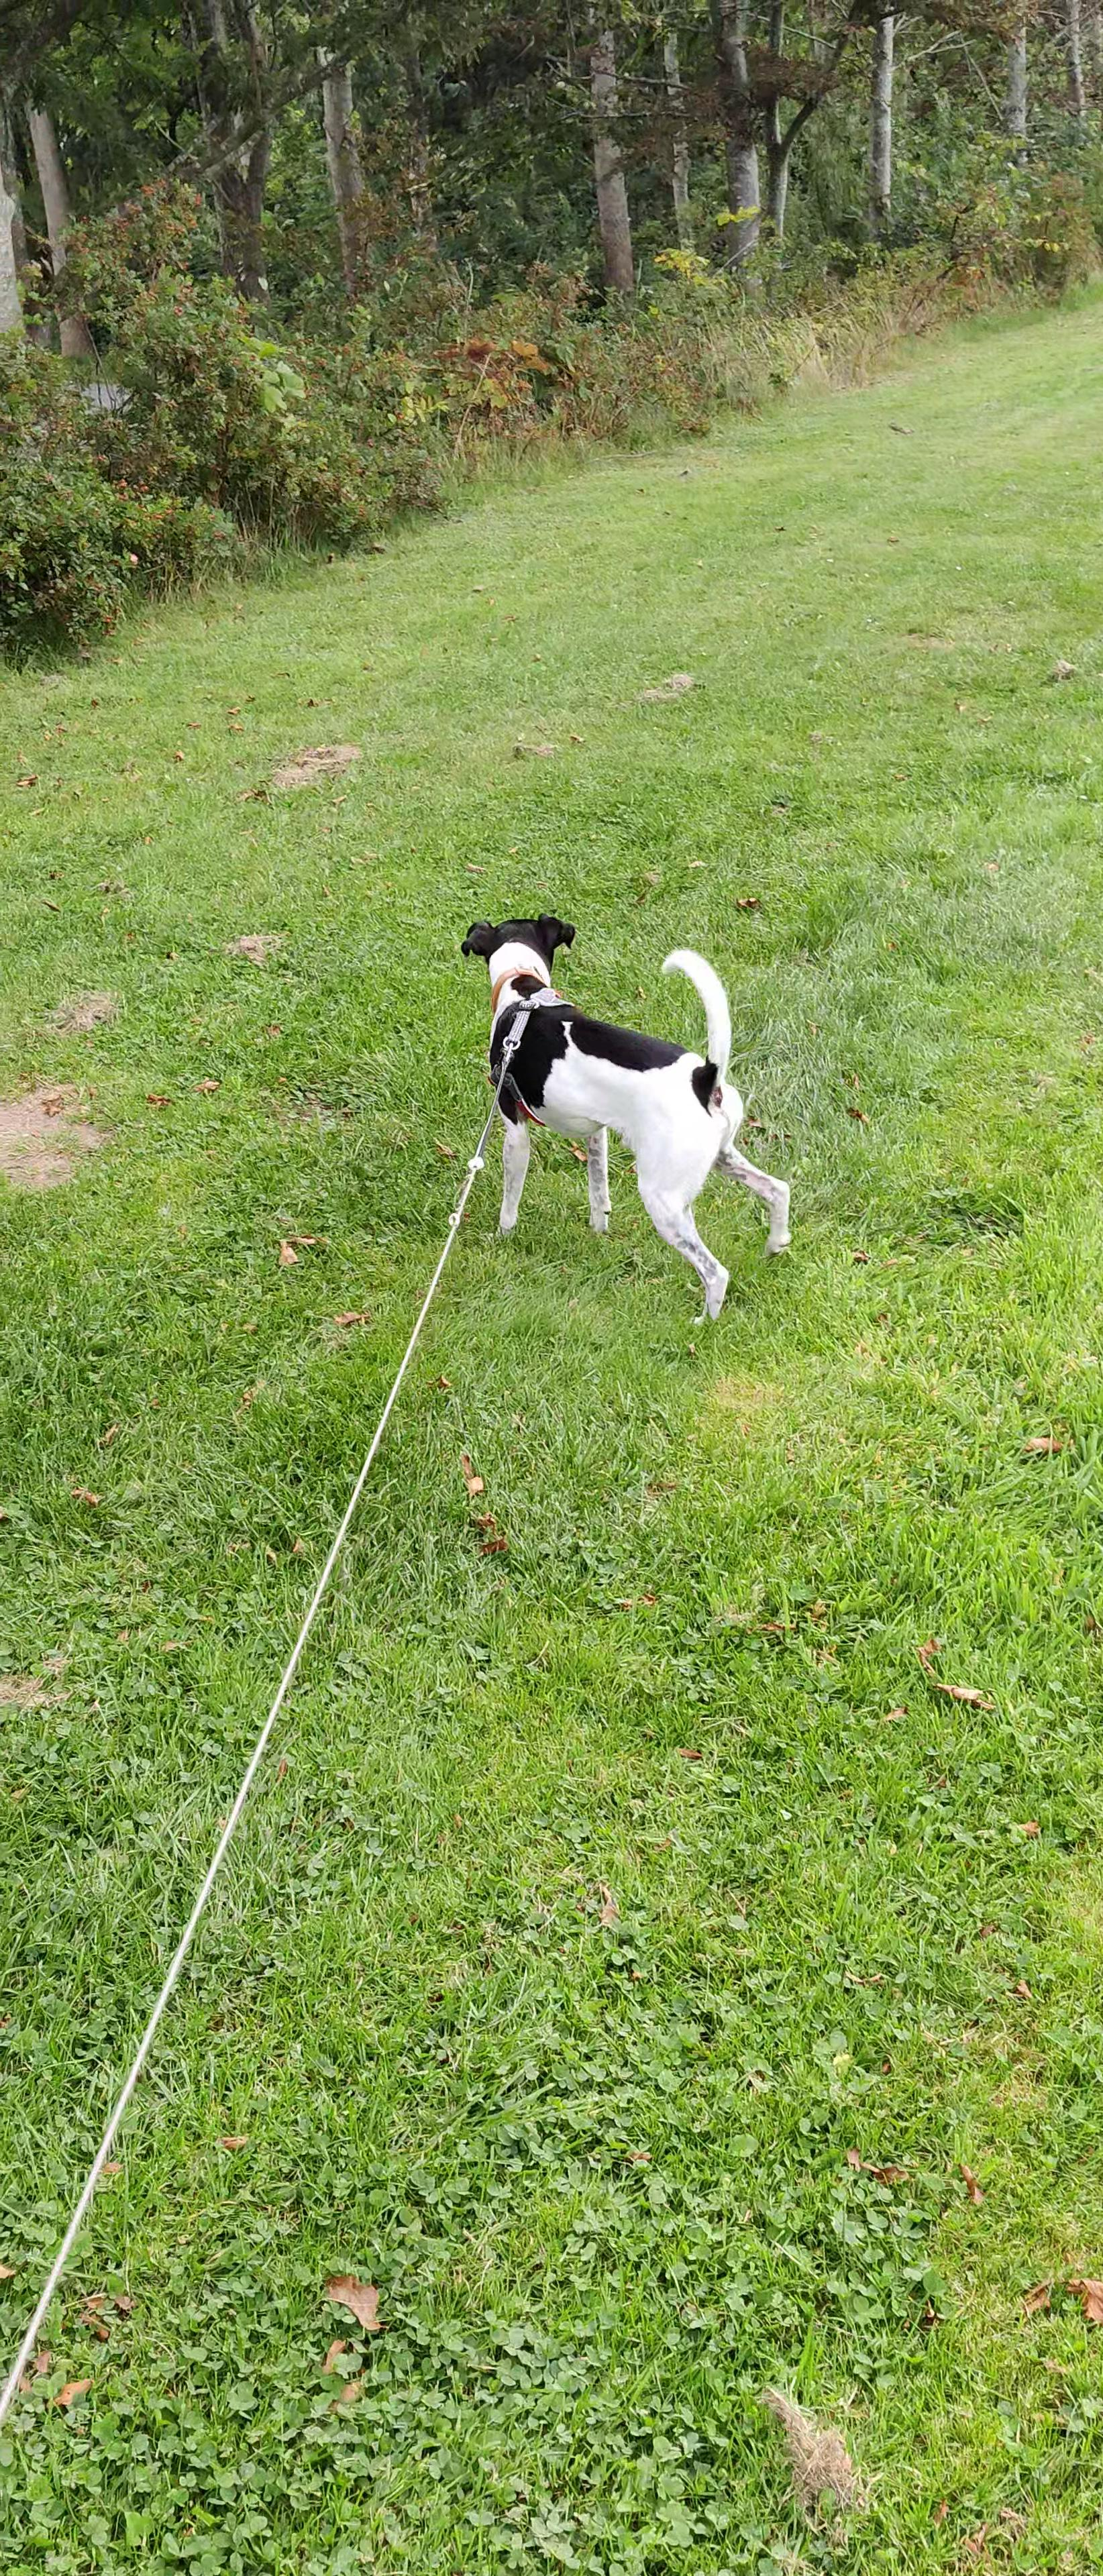Dog: (455, 910, 797, 1331)
